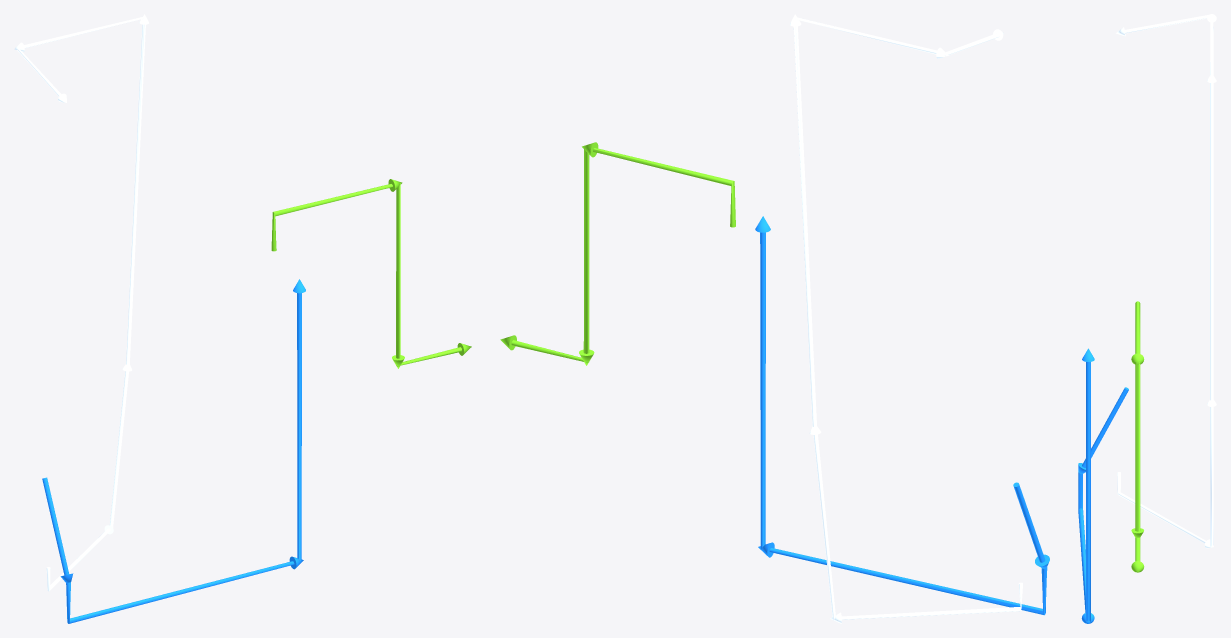
File: nitrogen_storage_vessel_flow.glb
3 views of the same model, side by side, from view 1: azimuth 30°, elevation 25°; view 2: azimuth 150°, elevation 25°; view 3: azimuth 270°, elevation 25° (orthographic). The views are drawn at different scales.
Parts seen in each view (by area): view 1: pressure_build, liquid_out, gas_to_plant; view 2: pressure_build, liquid_out, gas_to_plant; view 3: pressure_build, liquid_out, gas_to_plant.
Part boxes in pixels (x1,y1,x2,y2): pressure_build: (14, 14, 148, 591); liquid_out: (42, 279, 305, 623); gas_to_plant: (271, 179, 471, 368); pressure_build: (790, 14, 1022, 623); liquid_out: (755, 216, 1049, 615); gas_to_plant: (500, 142, 735, 365); pressure_build: (1116, 14, 1216, 548); liquid_out: (1078, 348, 1128, 623); gas_to_plant: (1131, 301, 1144, 572).
Size of the model in its own units: 3.17 by 3.66 by 0.8969.
